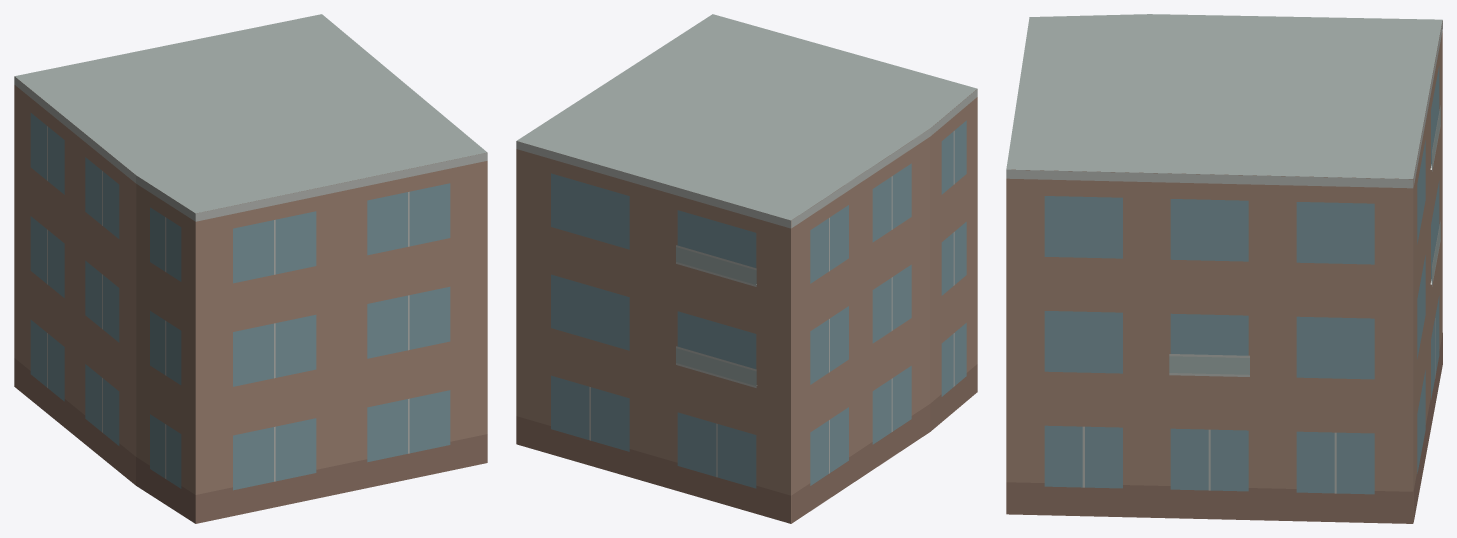
The model's file is survey-upis-32479662.glb.
3 renders of one model, left to right at view 1: azimuth 30°, elevation 25°; view 2: azimuth 150°, elevation 25°; view 3: azimuth 270°, elevation 25°, orthographic. The views are drawn at different scales.
Visible parts, largest first — view 1: survey-upis-32479662.tmp; view 2: survey-upis-32479662.tmp; view 3: survey-upis-32479662.tmp.
Part boxes in pixels (x1,y1,x2,y2): survey-upis-32479662.tmp: (14, 14, 487, 523); survey-upis-32479662.tmp: (516, 14, 977, 523); survey-upis-32479662.tmp: (1006, 14, 1442, 523).
Bounding box in the file's own units: 9.41 × 9.15 × 10.51.
